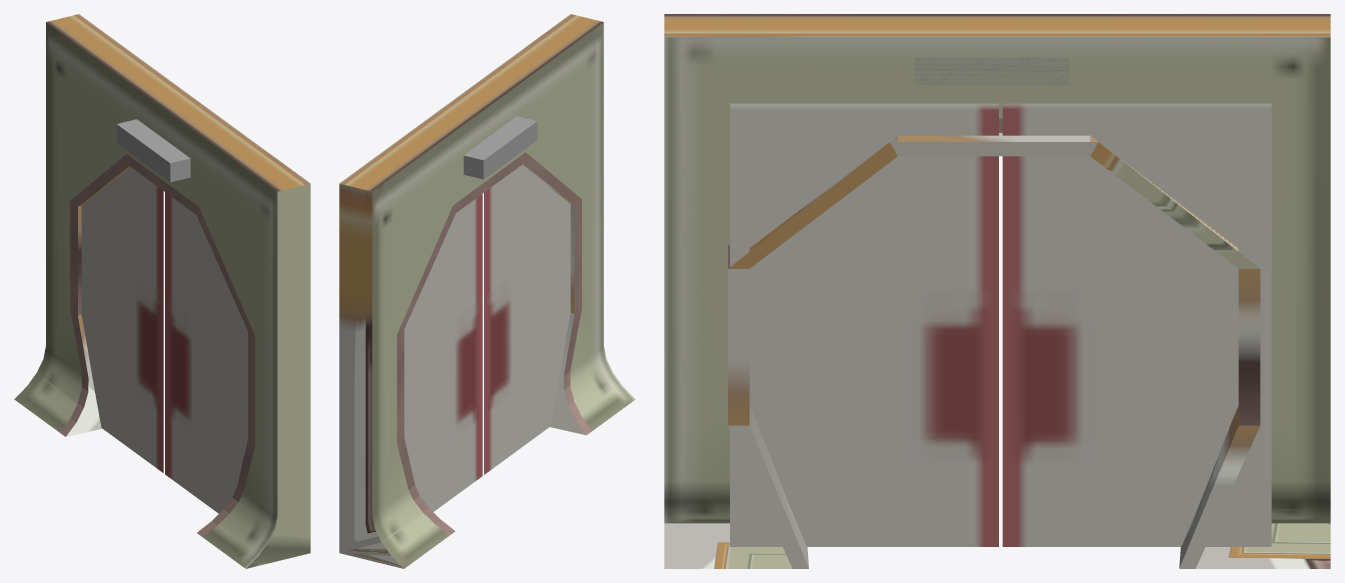
The model's file is SM_Door.fbx.
The picture shows the model from 3 angles, left to right: view 1: azimuth 30°, elevation 25°; view 2: azimuth 150°, elevation 25°; view 3: azimuth 270°, elevation 25°; orthographic projection. The views are drawn at different scales.
Parts seen in each view (by area): view 1: pCube33; view 2: pCube33; view 3: pCube33.
Boxes of the visible parts, left/top/right/bottom form: pCube33: left=14, top=14, right=310, bottom=568; pCube33: left=339, top=14, right=635, bottom=568; pCube33: left=664, top=14, right=1330, bottom=568.
Bounding box in the file's own units: 40.43 × 220 × 250.
2 materials, 1 textured.
